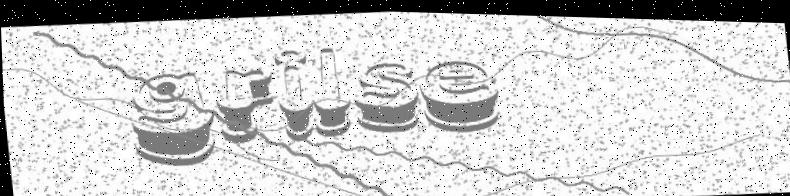e: (418, 55, 501, 133)
g: (127, 69, 215, 169)
i: (273, 47, 316, 140)
l: (309, 45, 351, 136)
r: (213, 65, 276, 143)
s: (350, 58, 422, 134)
